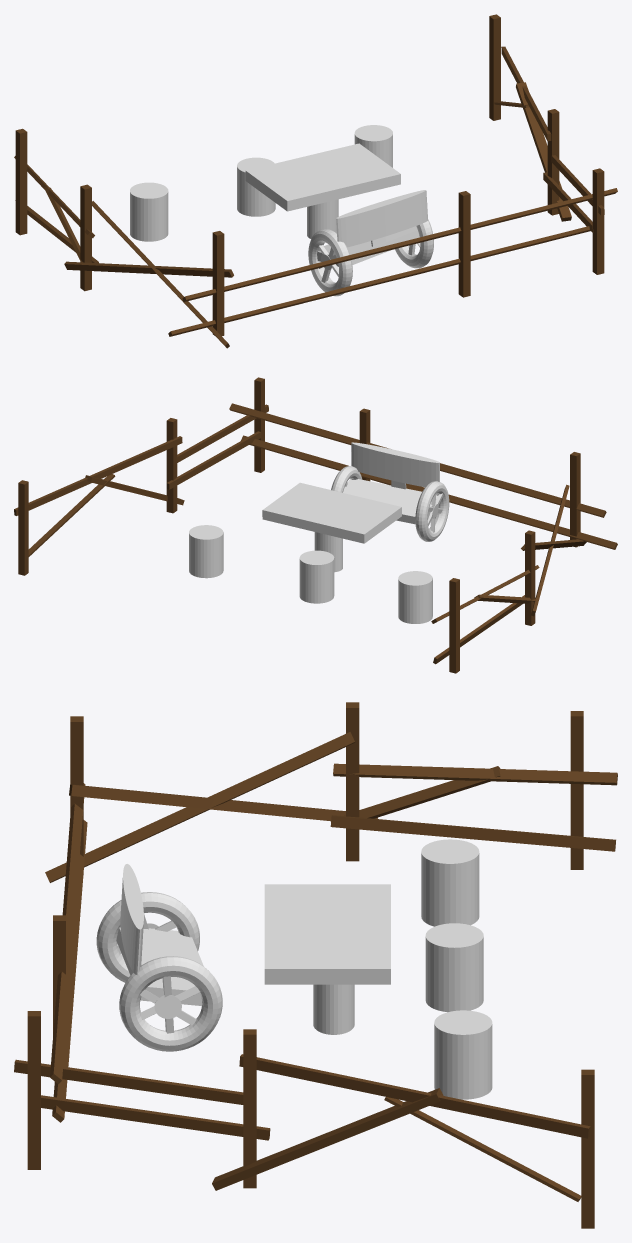
Rendered from stone_bench_w_fence_FINglb.glb.
3 views of the same model, one above another, from view 1: azimuth 30°, elevation 25°; view 2: azimuth 150°, elevation 25°; view 3: azimuth 270°, elevation 25° (orthographic). The views are drawn at different scales.
Visible parts, largest first — view 1: Cube.023, Cube, Cylinder.004, Cylinder.003, Torus, Cylinder.002, Cube.011, Cylinder.001, Cylinder, Cube.001, Torus.001; view 2: Cube.023, Cube, Cylinder.004, Cylinder.002, Cylinder.001, Cylinder.003, Cube.001, Torus, Cylinder, Torus.001, Cube.011; view 3: Cube.023, Cube, Torus.001, Cylinder.002, Cylinder.001, Cylinder.003, Torus, Cube.001, Cylinder, Cylinder.004, Cube.011.
Part boxes in pixels (left/top/right/bottom): Cube.023: left=14, top=14, right=617, bottom=348; Cube: left=245, top=143, right=400, bottom=211; Cylinder.004: left=336, top=190, right=427, bottom=247; Cylinder.003: left=130, top=182, right=168, bottom=241; Torus: left=308, top=229, right=352, bottom=296; Cylinder.002: left=237, top=157, right=275, bottom=216; Cube.011: left=458, top=191, right=470, bottom=297; Cylinder.001: left=354, top=125, right=392, bottom=167; Cylinder: left=307, top=199, right=338, bottom=238; Cube.001: left=317, top=226, right=419, bottom=266; Torus.001: left=395, top=219, right=433, bottom=268; Cube.023: left=14, top=377, right=617, bottom=673; Cube: left=262, top=482, right=401, bottom=543; Cylinder.004: left=351, top=442, right=439, bottom=487; Cylinder.002: left=299, top=550, right=334, bottom=603; Cylinder.001: left=189, top=525, right=223, bottom=578; Cylinder.003: left=398, top=571, right=432, bottom=623; Cube.001: left=343, top=479, right=437, bottom=524; Torus: left=415, top=481, right=449, bottom=541; Cylinder: left=314, top=532, right=342, bottom=572; Torus.001: left=331, top=466, right=362, bottom=492; Cube.011: left=359, top=408, right=370, bottom=481; Cube.023: left=14, top=702, right=617, bottom=1228; Cube: left=264, top=884, right=390, bottom=984; Torus.001: left=119, top=956, right=222, bottom=1051; Cylinder.002: left=425, top=923, right=483, bottom=1012; Cylinder.001: left=434, top=1010, right=492, bottom=1099; Cylinder.003: left=421, top=839, right=479, bottom=926; Torus: left=96, top=892, right=199, bottom=982; Cube.001: left=116, top=927, right=203, bottom=1005; Cylinder: left=313, top=984, right=354, bottom=1034; Cylinder.004: left=120, top=864, right=143, bottom=974; Cube.011: left=53, top=915, right=65, bottom=1035.
Bounding box in the file's own units: 21.45 × 4.74 × 14.54.
